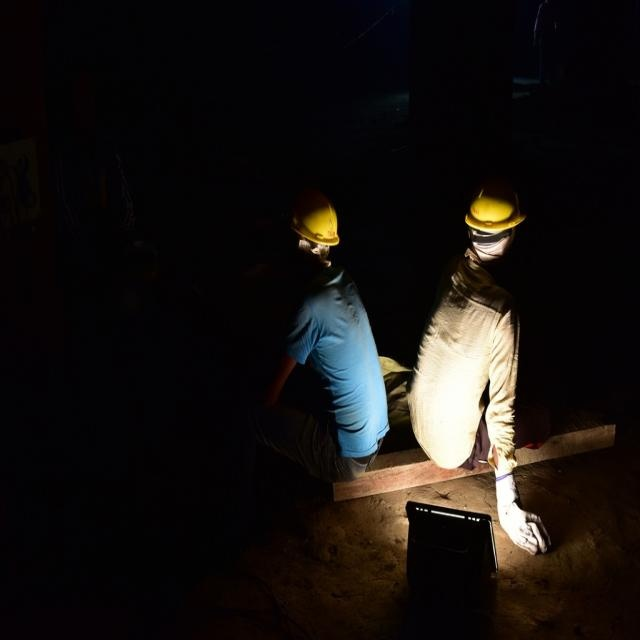Con_Casco: (464, 185, 525, 257), (293, 188, 342, 268)
